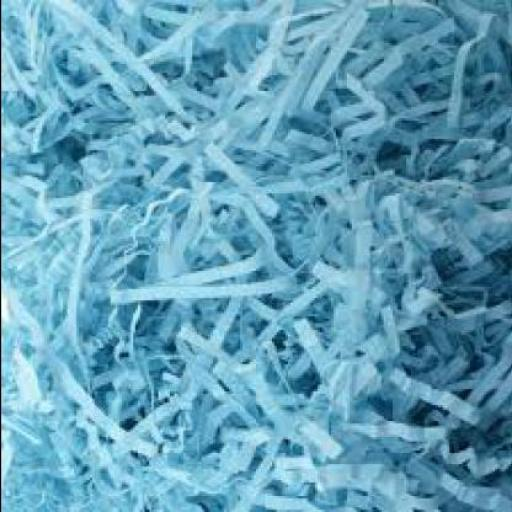paper: (1, 0, 510, 511)
